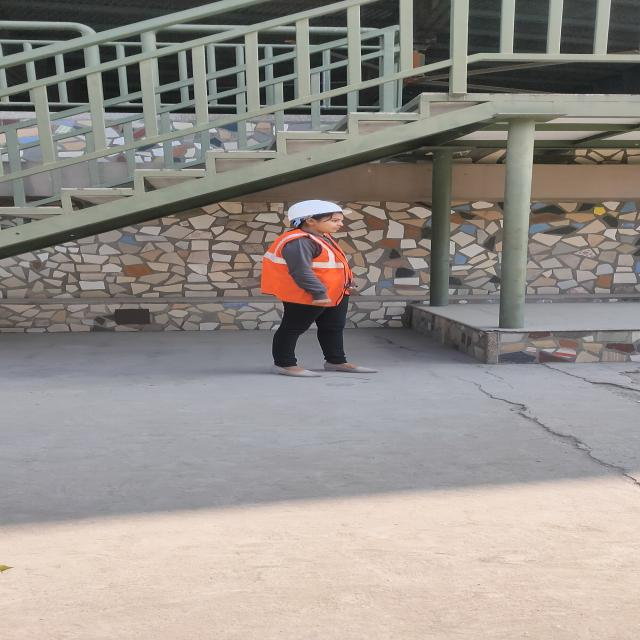safe: (260, 200, 358, 377)
